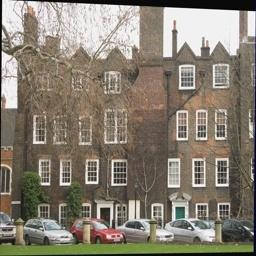building: (12, 34, 256, 220)
